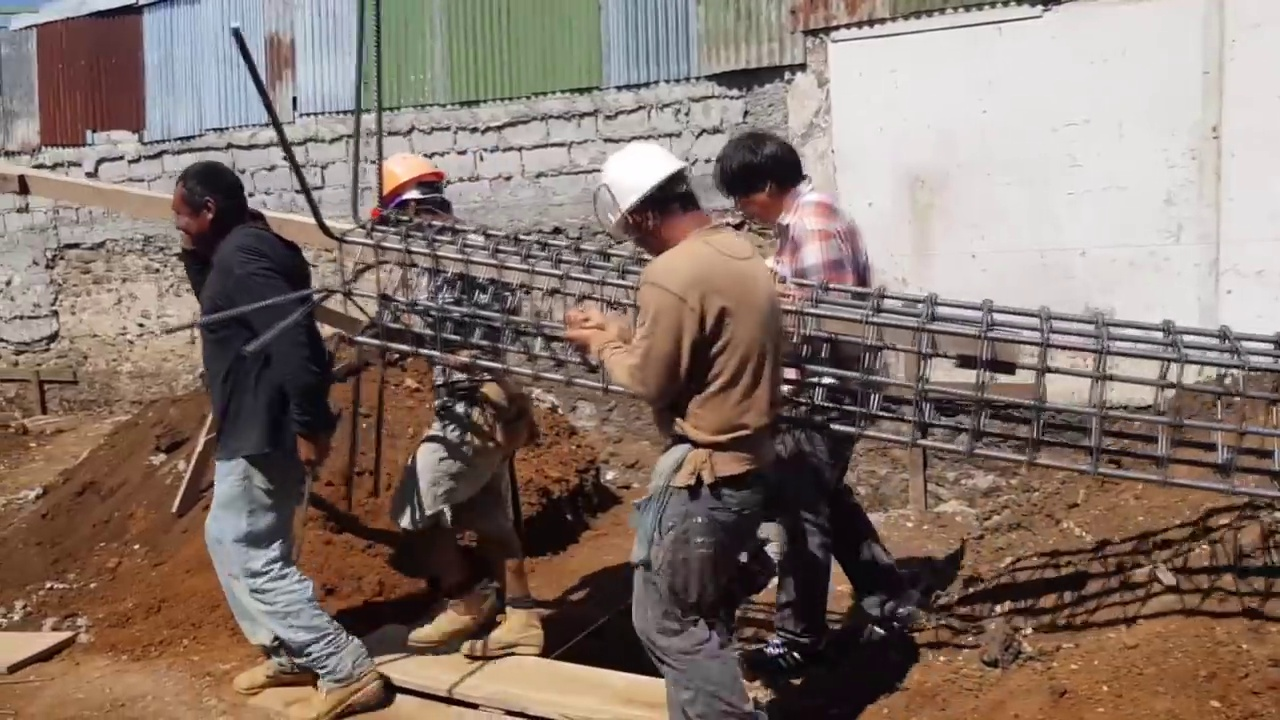helmet: (599, 144, 691, 242), (370, 151, 447, 210)
helmet-off: (715, 128, 809, 238), (167, 158, 244, 260)
helmet-on: (596, 137, 713, 262), (369, 152, 459, 235)
person: (564, 135, 785, 720), (166, 169, 386, 717), (716, 126, 900, 679), (370, 151, 545, 669)
